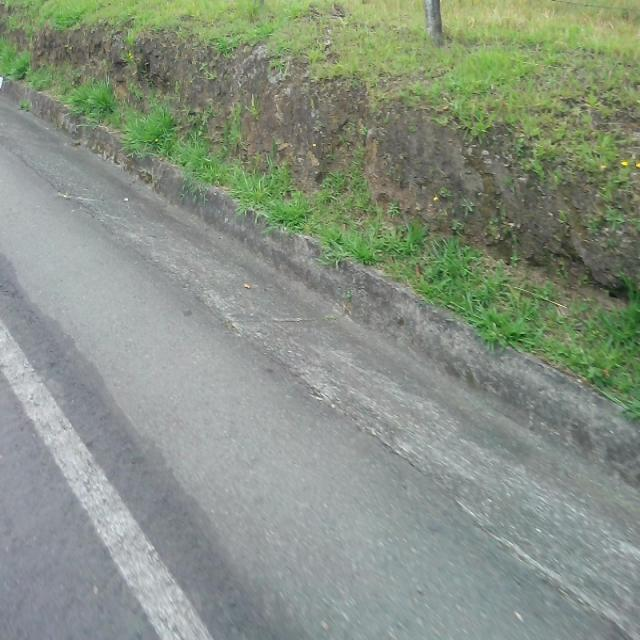DITCH: (1, 65, 638, 639), (2, 82, 638, 637), (1, 85, 638, 638)
